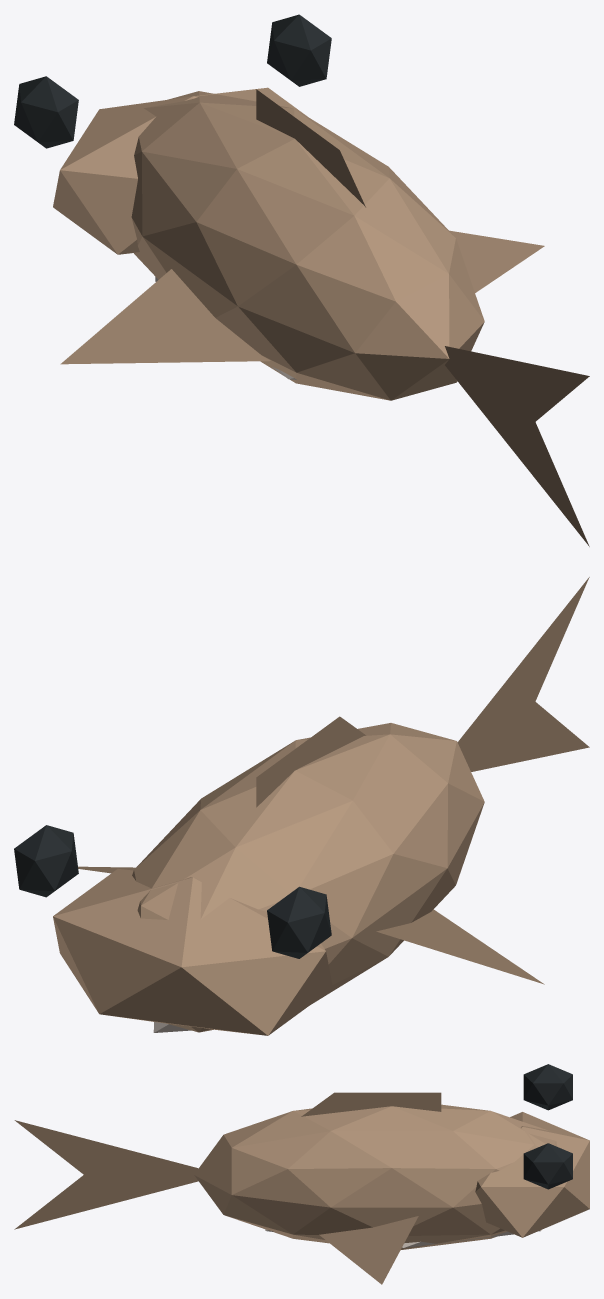
File: Goby.fbx
3 renders of one model, top to bottom at view 1: azimuth 30°, elevation 25°; view 2: azimuth 150°, elevation 25°; view 3: azimuth 270°, elevation 25°, orthographic. The views are drawn at different scales.
Visible parts, largest first — view 1: Body, Head, Pectoral1, TailFin, Eye-1, Eye1, Pectoral-1, DorsalFin; view 2: Body, Head, TailFin, Eye-1, Eye1, Pectoral1, DorsalFin; view 3: Body, TailFin, Head, Pectoral-1, DorsalFin, Eye-1, Eye1.
Boxes of the visible parts, x1,y1,x2,y2 form: Body: (131,91,484,400); Head: (53,87,307,254); Pectoral1: (60,269,270,364); TailFin: (445,346,589,546); Eye-1: (267,14,331,86); Eye1: (14,76,78,148); Pectoral-1: (449,230,544,292); DorsalFin: (256,89,365,207); Body: (132,723,484,1032); Head: (53,868,332,1035); TailFin: (457,577,589,771); Eye-1: (14,825,78,897); Eye1: (267,886,331,958); Pectoral1: (376,909,544,984); DorsalFin: (256,716,365,807); Body: (194,1104,556,1249); TailFin: (14,1120,199,1229); Head: (475,1112,589,1237); Pectoral-1: (319,1216,418,1284); DorsalFin: (301,1092,441,1116); Eye-1: (523,1143,572,1189); Eye1: (523,1064,572,1110).
Size of the model in its own units: 0.308 by 0.143 by 0.4945.
